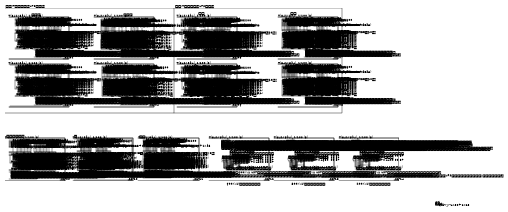corridor: (291, 32, 301, 34), (375, 32, 384, 34), (459, 32, 468, 34)
room: (254, 152, 289, 161), (385, 152, 420, 161), (254, 94, 289, 102), (385, 94, 420, 102), (38, 152, 73, 160), (38, 94, 73, 102), (148, 94, 183, 102), (148, 152, 183, 160), (178, 4, 213, 12), (94, 4, 129, 12), (6, 3, 41, 11), (153, 104, 163, 124), (177, 14, 187, 33), (236, 162, 246, 181), (236, 104, 246, 123), (12, 105, 22, 124), (44, 105, 54, 124), (12, 163, 22, 182), (44, 163, 54, 182), (171, 162, 181, 181), (132, 162, 142, 181), (357, 163, 367, 182), (401, 163, 411, 182), (357, 105, 367, 124), (401, 105, 411, 124), (174, 104, 183, 124), (144, 104, 153, 124), (135, 104, 144, 124), (126, 104, 135, 124), (165, 104, 174, 124), (93, 14, 102, 33), (102, 14, 111, 33), (6, 13, 15, 32), (15, 13, 24, 32), (24, 13, 33, 32), (187, 14, 196, 33), (227, 162, 236, 181), (253, 162, 262, 181), (262, 162, 271, 181), (271, 162, 280, 181), (280, 162, 289, 181), (227, 104, 236, 123), (253, 104, 262, 123), (262, 104, 271, 123), (271, 104, 280, 123), (280, 104, 289, 123), (35, 105, 44, 124), (35, 163, 44, 182), (22, 163, 31, 182), (54, 163, 63, 182), (63, 163, 72, 182), (22, 105, 31, 124), (54, 105, 63, 124), (63, 105, 72, 124), (142, 162, 151, 181), (151, 162, 160, 181), (162, 162, 171, 181), (123, 162, 132, 181), (385, 163, 394, 182), (376, 163, 385, 182), (367, 163, 376, 182), (411, 163, 420, 182), (385, 105, 394, 124), (376, 105, 385, 124), (367, 105, 376, 124), (411, 105, 420, 124), (56, 13, 65, 32), (47, 13, 56, 32), (38, 13, 47, 32), (127, 14, 136, 33), (118, 14, 127, 33), (201, 14, 210, 33), (210, 14, 219, 33), (177, 37, 187, 51), (236, 185, 246, 199), (236, 127, 246, 141), (12, 127, 22, 141), (44, 127, 54, 141), (171, 185, 181, 199), (132, 185, 142, 199), (153, 127, 163, 141), (357, 128, 367, 142), (401, 128, 411, 142), (12, 186, 22, 199), (44, 186, 54, 199), (357, 186, 367, 199), (401, 186, 411, 199), (93, 37, 102, 51), (102, 37, 111, 51), (6, 36, 15, 50), (15, 36, 24, 50), (24, 36, 33, 50), (187, 37, 196, 51), (227, 185, 236, 199), (253, 185, 262, 199), (262, 185, 271, 199), (271, 185, 280, 199), (280, 185, 289, 199), (227, 127, 236, 141), (253, 127, 262, 141), (262, 127, 271, 141), (271, 127, 280, 141), (280, 127, 289, 141), (35, 127, 44, 141), (22, 127, 31, 141), (54, 127, 63, 141), (63, 127, 72, 141), (142, 185, 151, 199), (151, 185, 160, 199), (162, 185, 171, 199), (123, 185, 132, 199), (174, 127, 183, 141), (144, 127, 153, 141), (135, 127, 144, 141), (126, 127, 135, 141), (165, 127, 174, 141), (385, 128, 394, 142), (376, 128, 385, 142), (367, 128, 376, 142), (411, 128, 420, 142), (56, 36, 65, 50), (47, 36, 56, 50), (38, 36, 47, 50), (127, 37, 136, 51), (118, 37, 127, 51), (201, 37, 210, 51), (210, 37, 219, 51), (35, 186, 44, 199), (22, 186, 31, 199), (54, 186, 63, 199), (63, 186, 72, 199), (385, 186, 394, 199), (376, 186, 385, 199), (367, 186, 376, 199), (411, 186, 420, 199), (229, 172, 235, 181), (229, 163, 235, 172), (254, 172, 260, 181), (254, 163, 260, 172), (229, 105, 235, 114), (254, 105, 260, 114), (14, 114, 20, 123), (14, 105, 20, 114), (46, 114, 52, 123), (46, 105, 52, 114), (14, 172, 20, 181), (46, 172, 52, 181), (173, 163, 179, 172), (155, 114, 161, 123), (155, 105, 161, 114), (58, 23, 64, 32), (58, 14, 64, 23), (229, 114, 235, 122), (254, 114, 260, 122), (14, 164, 20, 172), (46, 164, 52, 172), (173, 172, 179, 180), (95, 15, 100, 24), (8, 23, 13, 32), (8, 14, 13, 23), (264, 172, 269, 181), (264, 163, 269, 172), (264, 105, 269, 114), (37, 114, 42, 123), (37, 105, 42, 114), (37, 172, 42, 181), (144, 163, 149, 172), (153, 163, 158, 172), (176, 114, 181, 123), (176, 105, 181, 114), (146, 114, 151, 123), (146, 105, 151, 114), (387, 172, 392, 181), (378, 172, 383, 181), (413, 172, 418, 181), (387, 106, 392, 115), (378, 106, 383, 115), (413, 106, 418, 115), (129, 15, 134, 24), (93, 13, 104, 17), (95, 24, 100, 32), (264, 114, 269, 122), (37, 164, 42, 172), (144, 172, 149, 180), (153, 172, 158, 180), (387, 164, 392, 172), (378, 164, 383, 172), (413, 164, 418, 172), (387, 115, 392, 123), (378, 115, 383, 123), (413, 115, 418, 123), (129, 24, 134, 32), (104, 25, 110, 29), (104, 18, 110, 22), (26, 28, 32, 32), (26, 21, 32, 25), (26, 17, 32, 21), (188, 25, 194, 29), (188, 18, 194, 22), (179, 25, 185, 29), (179, 18, 185, 22), (282, 170, 288, 174), (282, 163, 288, 167), (282, 108, 288, 112), (55, 167, 61, 171), (55, 112, 61, 116), (55, 105, 61, 109), (23, 167, 29, 171), (23, 174, 29, 178), (23, 112, 29, 116), (23, 105, 29, 109), (23, 116, 29, 120), (134, 166, 140, 170), (125, 166, 131, 170), (164, 166, 170, 170), (164, 173, 170, 177), (127, 112, 133, 116), (127, 105, 133, 109), (166, 112, 172, 116), (166, 105, 172, 109), (166, 119, 172, 123), (359, 167, 365, 171), (403, 165, 409, 169), (359, 109, 365, 113), (119, 25, 125, 29), (119, 18, 125, 22), (202, 25, 208, 29), (202, 18, 208, 22), (17, 28, 22, 32), (17, 21, 22, 25), (17, 17, 22, 21), (65, 167, 70, 171), (65, 112, 70, 116), (65, 105, 70, 109), (137, 112, 142, 116), (137, 105, 142, 109), (137, 119, 142, 123), (49, 28, 54, 32), (49, 21, 54, 25), (49, 17, 54, 21), (40, 28, 45, 32), (40, 21, 45, 25), (40, 17, 45, 21), (212, 25, 217, 29), (212, 18, 217, 22), (104, 22, 110, 25), (26, 14, 32, 17), (26, 25, 32, 28), (188, 29, 194, 32), (188, 22, 194, 25), (179, 29, 185, 32), (179, 22, 185, 25), (282, 167, 288, 170), (282, 112, 288, 115), (282, 105, 288, 108), (55, 178, 61, 181), (55, 171, 61, 174), (55, 164, 61, 167), (55, 109, 61, 112), (23, 171, 29, 174), (23, 164, 29, 167), (23, 178, 29, 181), (55, 120, 61, 123), (23, 109, 29, 112), (23, 120, 29, 123), (134, 170, 140, 173), (134, 163, 140, 166), (125, 170, 131, 173), (125, 163, 131, 166), (134, 177, 140, 180), (164, 170, 170, 173), (164, 163, 170, 166), (164, 177, 170, 180), (127, 109, 133, 112), (166, 109, 172, 112), (166, 116, 172, 119), (359, 171, 365, 174), (359, 164, 365, 167), (359, 113, 365, 116), (359, 106, 365, 109), (403, 108, 409, 111), (119, 22, 125, 25), (202, 29, 208, 32), (202, 22, 208, 25), (332, 6, 340, 8), (421, 156, 429, 158), (69, 6, 77, 8), (17, 14, 22, 17), (17, 25, 22, 28), (65, 171, 70, 174), (65, 164, 70, 167), (65, 109, 70, 112), (137, 109, 142, 112), (49, 14, 54, 17), (40, 14, 45, 17), (49, 25, 54, 28), (40, 25, 45, 28), (212, 29, 217, 32), (212, 22, 217, 25), (416, 6, 423, 8), (500, 6, 507, 8), (291, 156, 298, 158), (74, 156, 81, 158), (184, 156, 191, 158), (157, 6, 164, 8), (241, 6, 248, 8), (104, 15, 110, 17), (104, 18, 110, 20), (104, 20, 110, 22), (104, 22, 110, 24), (188, 15, 194, 17), (188, 18, 194, 20), (188, 20, 194, 22), (188, 22, 194, 24), (179, 15, 185, 17), (179, 18, 185, 20), (179, 20, 185, 22), (179, 22, 185, 24), (238, 163, 244, 165), (238, 165, 244, 167), (238, 168, 244, 170), (238, 170, 244, 172), (238, 172, 244, 174), (238, 175, 244, 177), (238, 177, 244, 179), (238, 179, 244, 181), (282, 175, 288, 177), (282, 177, 288, 179), (282, 179, 288, 181), (238, 105, 244, 107), (238, 108, 244, 110), (238, 110, 244, 112), (238, 112, 244, 114), (238, 115, 244, 117), (238, 117, 244, 119), (238, 119, 244, 121), (282, 115, 288, 117), (282, 117, 288, 119), (282, 119, 288, 121), (55, 174, 61, 176), (55, 176, 61, 178), (55, 116, 61, 118), (55, 118, 61, 120), (104, 29, 110, 31), (134, 173, 140, 175), (134, 175, 140, 177), (125, 173, 131, 175), (125, 175, 131, 177), (125, 177, 131, 179), (127, 116, 133, 118), (127, 119, 133, 121), (127, 121, 133, 123), (368, 165, 374, 167), (368, 167, 374, 169), (368, 169, 374, 171), (368, 172, 374, 174), (368, 174, 374, 176), (368, 176, 374, 178), (368, 179, 374, 181), (359, 174, 365, 176), (359, 176, 365, 178), (359, 179, 365, 181), (403, 169, 409, 171), (403, 172, 409, 174), (403, 174, 409, 176), (403, 176, 409, 178), (403, 179, 409, 181), (368, 106, 374, 108), (368, 109, 374, 111), (368, 111, 374, 113), (368, 113, 374, 115), (368, 116, 374, 118), (368, 118, 374, 120), (368, 120, 374, 122), (359, 116, 365, 118), (359, 118, 365, 120), (359, 120, 365, 122), (403, 106, 409, 108), (403, 111, 409, 113), (403, 113, 409, 115), (403, 116, 409, 118), (403, 118, 409, 120), (403, 120, 409, 122), (119, 15, 125, 17), (119, 18, 125, 20), (119, 20, 125, 22), (119, 22, 125, 24), (119, 29, 125, 31), (202, 15, 208, 17), (202, 18, 208, 20), (202, 20, 208, 22), (202, 22, 208, 24), (95, 22, 100, 24), (95, 20, 100, 22), (95, 18, 100, 20), (95, 15, 100, 17), (273, 163, 278, 165), (273, 165, 278, 167), (273, 168, 278, 170), (273, 170, 278, 172), (273, 172, 278, 174), (273, 175, 278, 177), (273, 177, 278, 179), (273, 179, 278, 181), (273, 105, 278, 107), (273, 108, 278, 110), (273, 110, 278, 112), (273, 112, 278, 114), (273, 115, 278, 117), (273, 117, 278, 119), (273, 119, 278, 121), (65, 174, 70, 176), (65, 176, 70, 178), (65, 179, 70, 181), (65, 116, 70, 118), (65, 118, 70, 120), (65, 121, 70, 123), (137, 116, 142, 118), (129, 22, 134, 24), (129, 20, 134, 22), (129, 18, 134, 20), (129, 15, 134, 17), (212, 15, 217, 17), (212, 18, 217, 20), (212, 20, 217, 22), (212, 22, 217, 24), (421, 98, 429, 99), (291, 98, 298, 99), (74, 98, 81, 99), (184, 98, 191, 99), (104, 17, 110, 18), (104, 24, 110, 25), (188, 17, 194, 18), (188, 24, 194, 25), (179, 17, 185, 18), (179, 24, 185, 25), (238, 167, 244, 168), (238, 174, 244, 175), (282, 174, 288, 175), (238, 107, 244, 108), (238, 114, 244, 115), (238, 121, 244, 122), (282, 121, 288, 122), (104, 31, 110, 32), (125, 179, 131, 180), (127, 118, 133, 119), (368, 164, 374, 165), (368, 171, 374, 172), (368, 178, 374, 179), (359, 178, 365, 179), (403, 164, 409, 165), (403, 171, 409, 172), (403, 178, 409, 179), (368, 108, 374, 109), (368, 115, 374, 116), (368, 122, 374, 123), (359, 122, 365, 123), (403, 115, 409, 116), (403, 122, 409, 123), (119, 17, 125, 18), (119, 24, 125, 25), (119, 31, 125, 32), (202, 17, 208, 18), (202, 24, 208, 25), (95, 17, 100, 18), (273, 167, 278, 168), (273, 174, 278, 175), (273, 107, 278, 108), (273, 114, 278, 115), (273, 121, 278, 122), (65, 178, 70, 179), (65, 120, 70, 121), (137, 118, 142, 119), (129, 17, 134, 18), (212, 17, 217, 18), (212, 24, 217, 25)
wall: (177, 35, 187, 37), (291, 32, 301, 34), (236, 125, 246, 127), (12, 184, 22, 186), (44, 184, 54, 186), (171, 183, 181, 185), (132, 183, 142, 185), (357, 184, 367, 186), (401, 184, 411, 186), (357, 126, 367, 128), (401, 126, 411, 128), (93, 35, 102, 37), (102, 35, 111, 37), (187, 35, 196, 37), (375, 32, 384, 34), (459, 32, 468, 34), (227, 125, 236, 127), (253, 125, 262, 127), (262, 125, 271, 127), (271, 125, 280, 127), (280, 125, 289, 127), (35, 184, 44, 186), (22, 184, 31, 186), (54, 184, 63, 186), (63, 184, 72, 186), (142, 183, 151, 185), (151, 183, 160, 185), (162, 183, 171, 185), (123, 183, 132, 185), (385, 184, 394, 186), (376, 184, 385, 186), (367, 184, 376, 186), (411, 184, 420, 186), (385, 126, 394, 128), (376, 126, 385, 128), (367, 126, 376, 128), (411, 126, 420, 128), (127, 35, 136, 37), (118, 35, 127, 37), (201, 35, 210, 37), (210, 35, 219, 37), (236, 184, 246, 185), (12, 126, 22, 127), (44, 126, 54, 127), (153, 126, 163, 127), (6, 35, 15, 36), (15, 35, 24, 36), (24, 35, 33, 36), (227, 184, 236, 185), (253, 184, 262, 185), (262, 184, 271, 185), (271, 184, 280, 185), (280, 184, 289, 185), (35, 126, 44, 127), (22, 126, 31, 127), (54, 126, 63, 127), (63, 126, 72, 127), (174, 126, 183, 127), (144, 126, 153, 127), (135, 126, 144, 127), (126, 126, 135, 127), (165, 126, 174, 127), (56, 35, 65, 36), (47, 35, 56, 36), (38, 35, 47, 36), (15, 123, 18, 125), (37, 123, 40, 125), (178, 123, 181, 125), (157, 123, 160, 125), (334, 1, 340, 2), (417, 1, 423, 2), (501, 1, 507, 2), (292, 150, 298, 151), (292, 92, 298, 93), (423, 150, 429, 151), (423, 92, 429, 93), (75, 150, 81, 151), (75, 92, 81, 93), (185, 92, 191, 93), (185, 150, 191, 151), (158, 1, 164, 2), (71, 1, 77, 2), (243, 1, 248, 2), (37, 182, 41, 183), (414, 182, 418, 183), (230, 181, 233, 182), (255, 181, 258, 182), (230, 123, 233, 124), (255, 123, 258, 124), (15, 182, 18, 183), (155, 181, 158, 182), (175, 181, 178, 182), (389, 182, 392, 183), (389, 124, 392, 125), (415, 124, 418, 125), (402, 192, 404, 193), (402, 135, 404, 135)
window: (260, 164, 262, 165), (269, 164, 271, 165), (278, 164, 280, 165), (278, 163, 280, 164), (287, 163, 289, 164), (20, 106, 22, 107), (52, 106, 54, 107), (42, 106, 44, 107), (133, 163, 135, 164), (174, 106, 176, 107), (144, 106, 146, 107), (153, 106, 155, 107), (135, 105, 137, 106), (126, 105, 128, 106), (235, 164, 236, 165), (244, 164, 245, 165), (244, 163, 245, 164), (124, 163, 125, 164), (108, 15, 110, 15), (22, 14, 24, 14), (13, 14, 15, 14), (31, 14, 33, 14), (194, 15, 196, 15), (184, 15, 186, 15), (99, 15, 100, 15), (235, 106, 236, 106), (244, 106, 245, 106), (260, 106, 262, 106), (269, 106, 271, 106), (244, 105, 245, 105), (278, 106, 280, 106), (278, 105, 280, 105), (287, 105, 289, 105), (20, 165, 22, 165), (52, 165, 54, 165), (42, 165, 44, 165), (29, 164, 30, 164), (61, 164, 63, 164), (70, 164, 72, 164), (61, 106, 62, 106), (70, 106, 72, 106), (29, 106, 30, 106), (171, 164, 173, 164), (142, 164, 144, 164), (151, 164, 153, 164), (385, 165, 387, 165), (376, 165, 378, 165), (367, 165, 369, 165), (367, 164, 369, 164), (358, 164, 359, 164), (411, 165, 413, 165), (402, 165, 404, 165), (402, 164, 404, 164), (385, 107, 387, 107), (376, 107, 378, 107), (367, 107, 369, 107), (367, 106, 369, 106), (358, 106, 359, 106), (411, 107, 413, 107), (402, 107, 404, 107), (402, 106, 404, 106), (47, 14, 49, 14), (56, 14, 58, 14), (38, 14, 40, 14), (127, 15, 129, 15), (119, 15, 121, 15), (201, 15, 203, 15), (210, 15, 212, 15)
